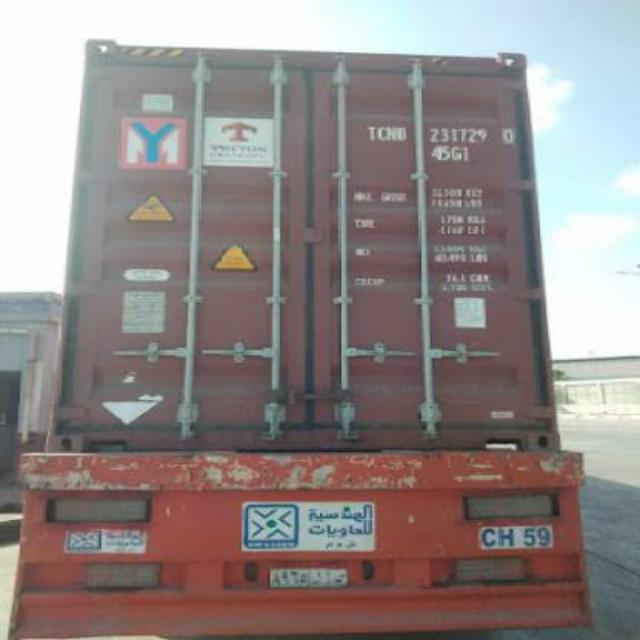0: (502, 122, 516, 144)
1: (450, 121, 458, 142)
2: (426, 122, 439, 142), (466, 121, 476, 142)
3: (438, 122, 448, 144)
7: (458, 121, 468, 142)
9: (476, 120, 488, 144)
C: (376, 121, 386, 142)
N: (386, 120, 398, 144)
T: (366, 118, 376, 146)
U: (396, 122, 408, 144)
